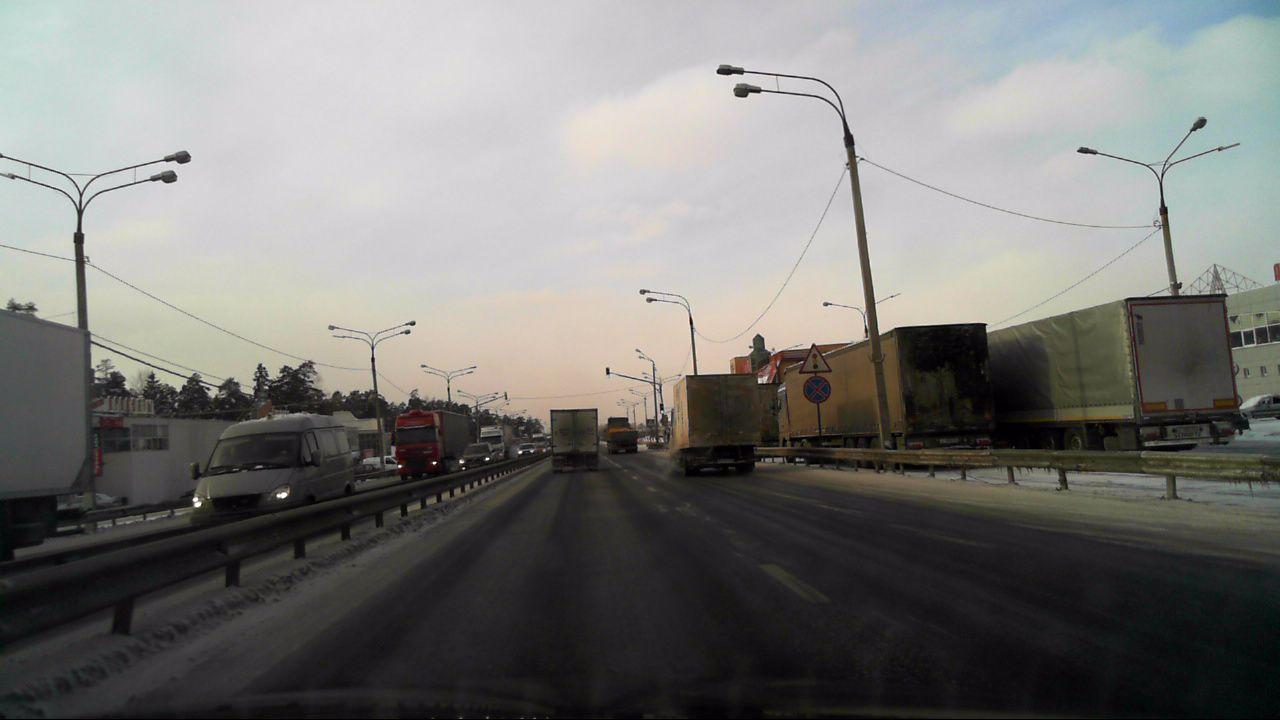1_8: (799, 343, 831, 374)
3_27: (803, 375, 831, 404)
